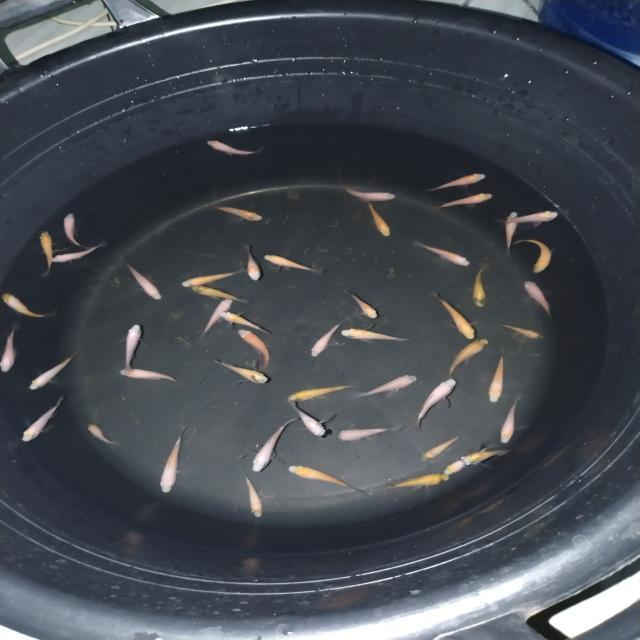nila: (250, 416, 298, 472), (15, 398, 70, 446), (287, 463, 365, 495), (158, 427, 194, 495), (417, 376, 458, 432), (432, 294, 478, 342), (25, 352, 79, 392), (306, 318, 350, 359), (412, 238, 474, 266), (1, 289, 58, 319), (422, 168, 487, 194), (450, 336, 490, 378), (260, 252, 330, 276), (520, 277, 556, 323), (284, 382, 358, 404), (46, 240, 104, 268), (354, 372, 416, 398), (237, 330, 273, 374), (443, 443, 488, 478), (290, 402, 330, 441), (214, 359, 275, 384), (126, 262, 164, 302), (512, 236, 552, 273), (416, 433, 464, 463), (498, 397, 526, 448), (208, 203, 270, 226), (116, 323, 145, 371), (198, 139, 271, 158), (345, 290, 385, 324), (436, 190, 492, 214), (488, 348, 511, 405), (340, 326, 412, 344), (198, 298, 232, 336), (190, 285, 250, 306), (387, 472, 454, 490), (496, 208, 559, 226), (330, 184, 396, 201), (333, 426, 403, 442), (216, 312, 272, 332), (240, 472, 264, 518), (178, 270, 239, 288), (364, 204, 394, 239), (468, 262, 488, 314), (500, 322, 549, 342), (117, 368, 178, 384), (0, 326, 20, 374), (240, 240, 262, 282), (460, 446, 508, 465), (88, 422, 121, 449), (37, 228, 54, 280), (64, 208, 86, 247), (502, 208, 517, 256)
